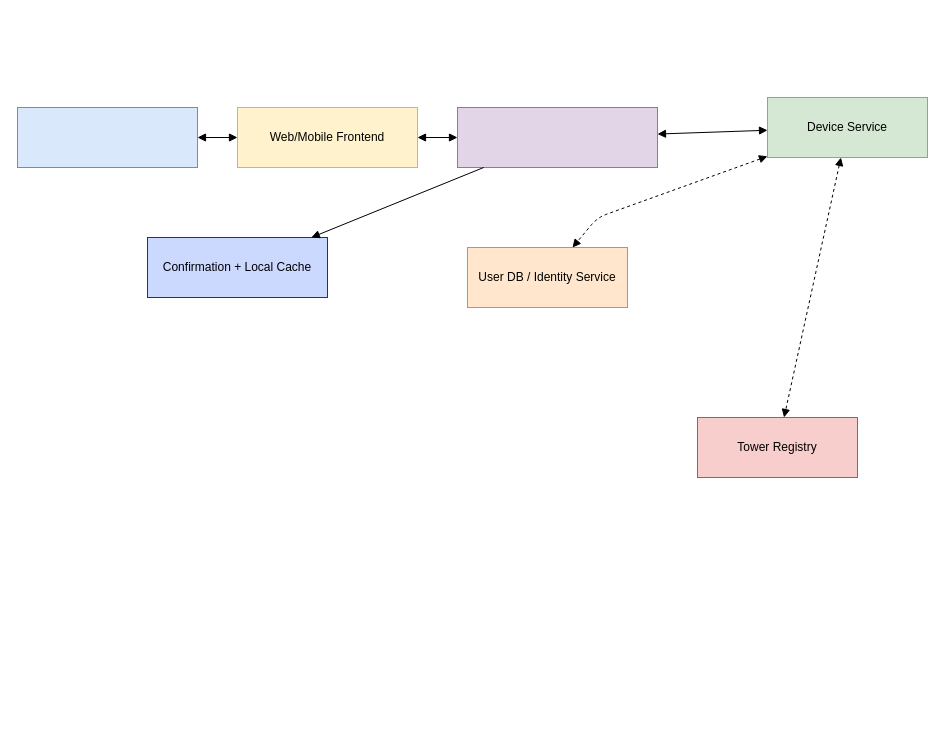
This 945x734 diagram has some shape labels left out. The shapes that lost their labels are listed below. From the top down, each one's centre as x and y in pixels, then its label:
the point at 107,137: Enterprise Admin Portal
the point at 557,137: API Gateway / BFF Layer
